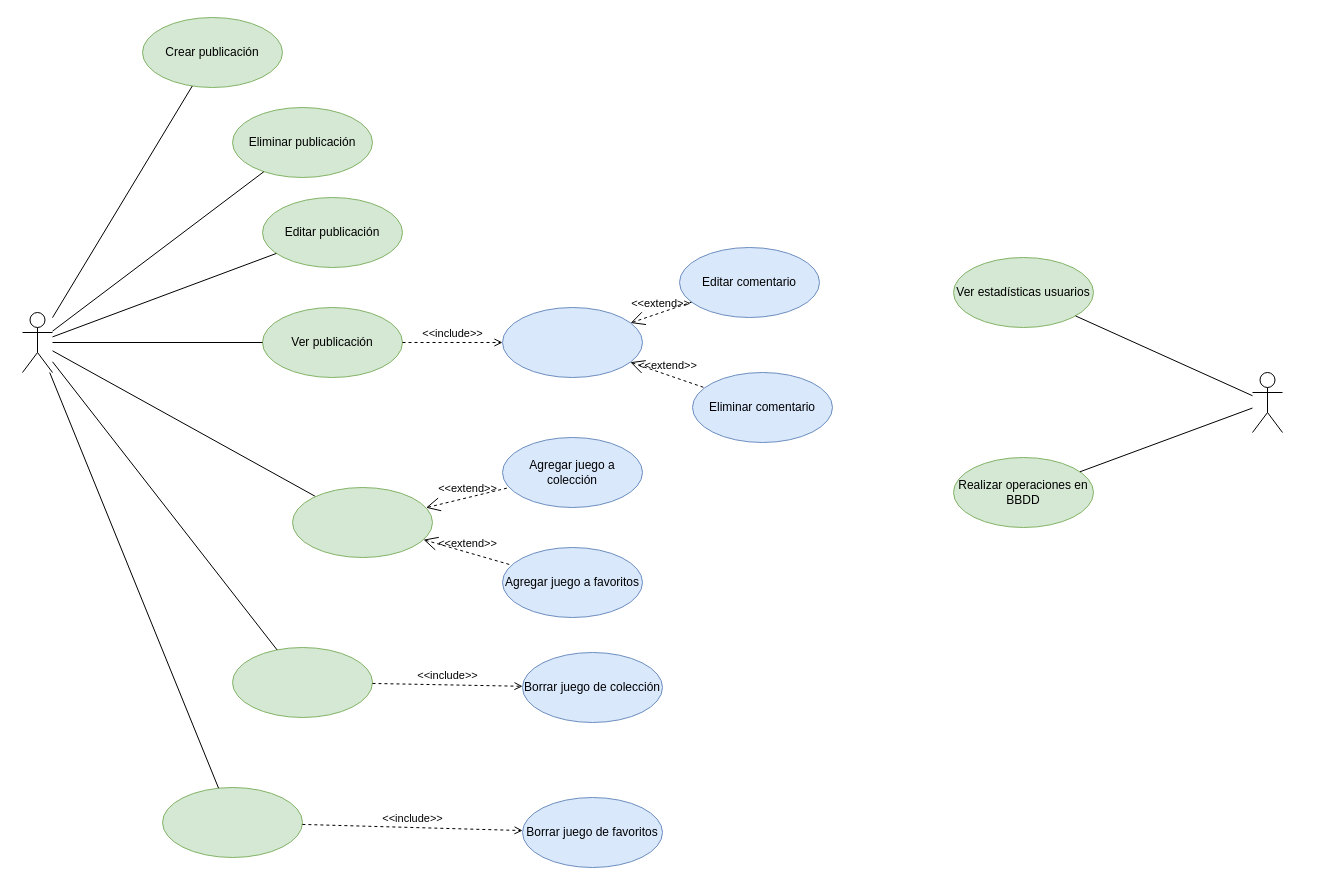
This 1322x885 diagram has some shape labels left out. The box of each missing label's shape, as (x1, y1, x2, y2) in pixels:
Administrador: (1252, 372, 1282, 432)
Crear comentario: (502, 306, 642, 378)
Usuario: (22, 312, 52, 372)
Ver colección: (232, 646, 372, 718)
Ver favoritos: (162, 786, 302, 858)
Ver juego: (292, 486, 432, 558)
